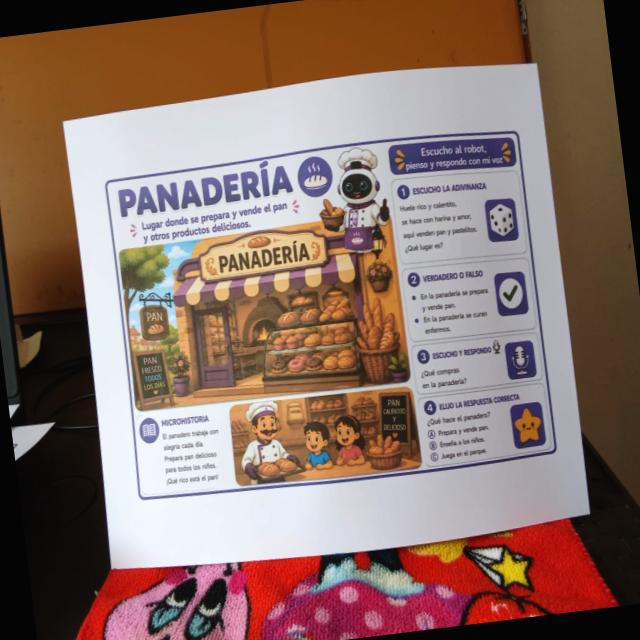panaderia: (95, 118, 564, 513)
